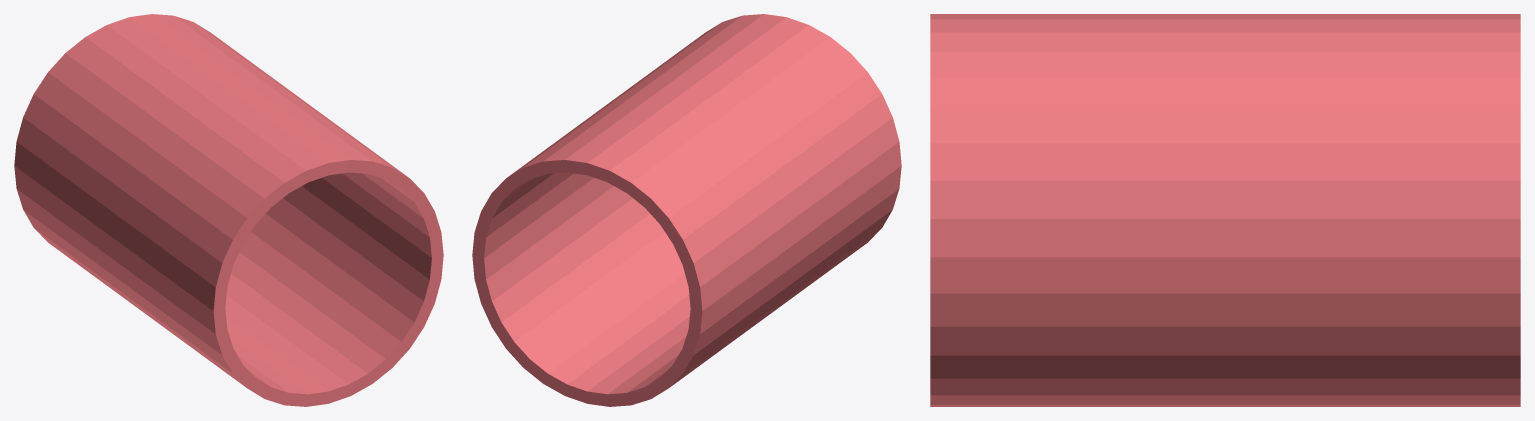
3 renders of one model, left to right at view 1: azimuth 30°, elevation 25°; view 2: azimuth 150°, elevation 25°; view 3: azimuth 270°, elevation 25°, orthographic. The views are drawn at different scales.
Visible parts, largest first — view 1: Tunnel; view 2: Tunnel; view 3: Tunnel.
Part boxes in pixels (x1=…): Tunnel: x1=14, y1=14, x2=443, y2=406; Tunnel: x1=472, y1=14, x2=901, y2=406; Tunnel: x1=930, y1=14, x2=1520, y2=406.
Bounding box in the file's own units: 8 × 8 × 12.
